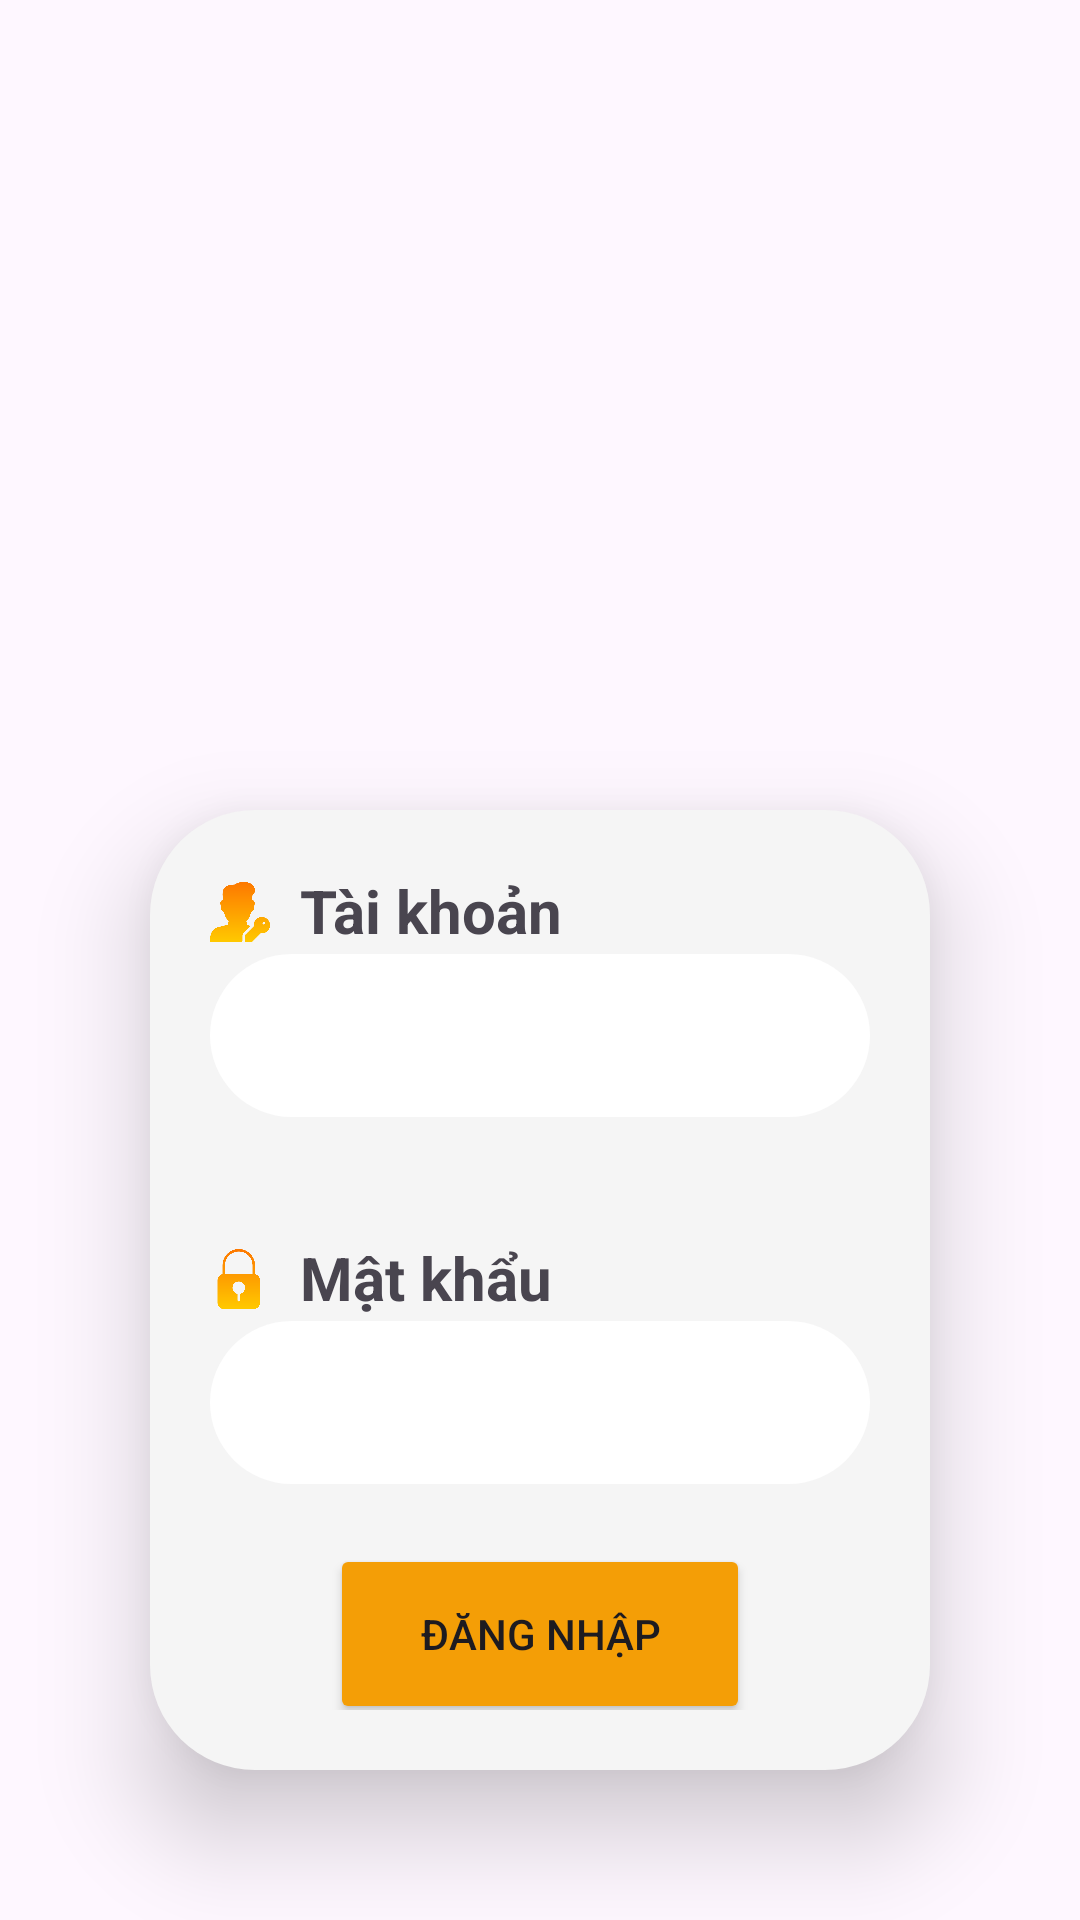

Icon bounding boxes for this 1080 × 1920 phone screenshot, format bbox=[x1, y1, x2, y2]:
key: bbox=[210, 882, 270, 942]
lock: bbox=[217, 1249, 260, 1309]
